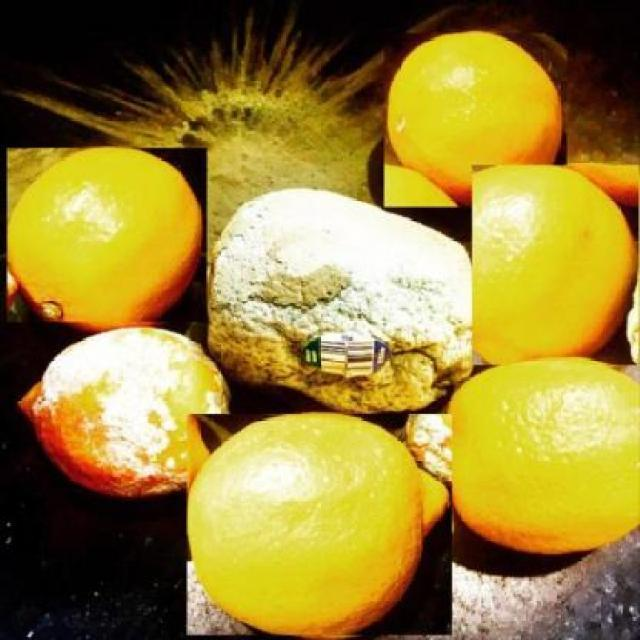Orange: (186, 414, 452, 636), (443, 356, 634, 549), (17, 331, 242, 486), (7, 148, 207, 322), (472, 164, 640, 364), (384, 33, 567, 207)
